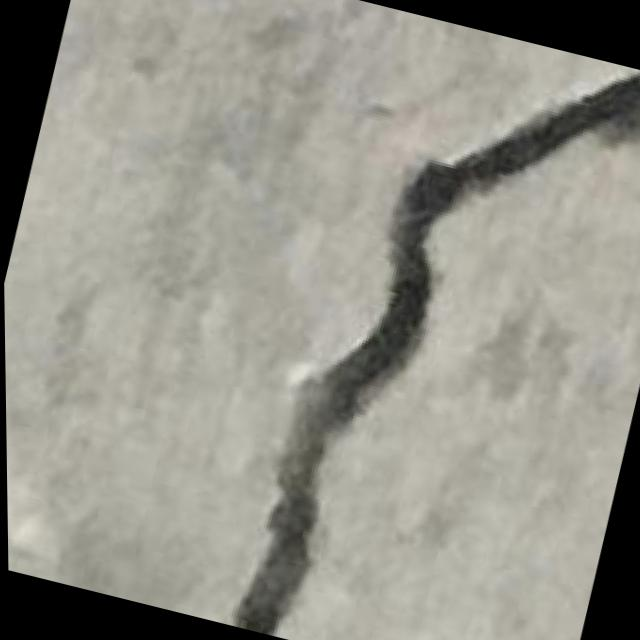Crack: (197, 1, 640, 640)
